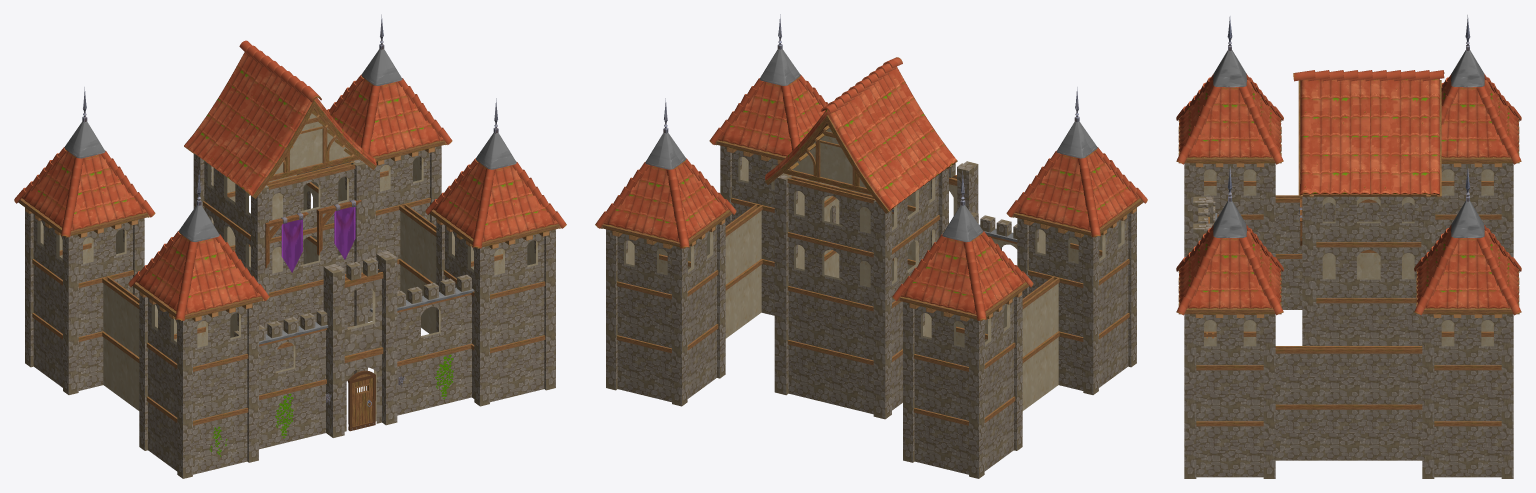
The model's file is castle.glb.
3 renders of one model, left to right at view 1: azimuth 30°, elevation 25°; view 2: azimuth 150°, elevation 25°; view 3: azimuth 270°, elevation 25°, orthographic. The views are drawn at different scales.
Visible parts, largest first — view 1: towerL_MI_UnevenBrick, towerR_MI_UnevenBrick, backL_MI_UnevenBrick, keep_MI_UnevenBrick, keep_MI_RoundTiles, gate_MI_UnevenBrick, wallR_MI_UnevenBrick, wallL_MI_UnevenBrick, towerR_MI_RoundTiles, backL_MI_RoundTiles, towerL_MI_RoundTiles, back_MI_Plaster (+21 smaller); view 2: keep_MI_UnevenBrick, backL_MI_UnevenBrick, backR_MI_UnevenBrick, towerL_MI_UnevenBrick, keep_MI_RoundTiles, back_MI_Plaster, backR_MI_RoundTiles, towerL_MI_RoundTiles, backL_MI_RoundTiles, towerR_MI_RoundTiles, keep_MI_WoodTrim, keep_MI_Plaster (+15 smaller); view 3: back_MI_UnevenBrick, keep_MI_RoundTiles, keep_MI_UnevenBrick, towerR_MI_UnevenBrick, backR_MI_UnevenBrick, towerL_MI_RoundTiles, towerR_MI_RoundTiles, backR_MI_RoundTiles, backL_MI_RoundTiles, towerL_MI_UnevenBrick, backL_MI_UnevenBrick, back_MI_WoodTrim (+15 smaller).
Part boxes in pixels (x1=…): towerL_MI_UnevenBrick: x1=139, y1=291, x2=258, y2=478; towerR_MI_UnevenBrick: x1=436, y1=219, x2=555, y2=406; backL_MI_UnevenBrick: x1=25, y1=208, x2=144, y2=394; keep_MI_UnevenBrick: x1=193, y1=154, x2=367, y2=381; keep_MI_RoundTiles: x1=184, y1=40, x2=376, y2=196; gate_MI_UnevenBrick: x1=323, y1=251, x2=397, y2=437; wallR_MI_UnevenBrick: x1=397, y1=274, x2=471, y2=415; wallL_MI_UnevenBrick: x1=234, y1=309, x2=327, y2=449; towerR_MI_RoundTiles: x1=425, y1=158, x2=566, y2=248; backL_MI_RoundTiles: x1=14, y1=147, x2=155, y2=237; towerL_MI_RoundTiles: x1=128, y1=231, x2=269, y2=320; back_MI_Plaster: x1=103, y1=211, x2=436, y2=410; keep_MI_UnevenBrick: x1=774, y1=168, x2=948, y2=419; backL_MI_UnevenBrick: x1=903, y1=291, x2=1022, y2=478; backR_MI_UnevenBrick: x1=606, y1=219, x2=725, y2=406; towerL_MI_UnevenBrick: x1=1017, y1=208, x2=1136, y2=394; keep_MI_RoundTiles: x1=765, y1=57, x2=957, y2=210; back_MI_Plaster: x1=725, y1=211, x2=1058, y2=410; backR_MI_RoundTiles: x1=595, y1=158, x2=736, y2=248; towerL_MI_RoundTiles: x1=1006, y1=147, x2=1147, y2=237; backL_MI_RoundTiles: x1=892, y1=231, x2=1033, y2=320; towerR_MI_RoundTiles: x1=709, y1=74, x2=828, y2=156; keep_MI_WoodTrim: x1=765, y1=115, x2=957, y2=365; keep_MI_Plaster: x1=792, y1=128, x2=935, y2=287; back_MI_UnevenBrick: x1=1275, y1=202, x2=1422, y2=460; keep_MI_RoundTiles: x1=1293, y1=70, x2=1444, y2=195; keep_MI_UnevenBrick: x1=1302, y1=196, x2=1435, y2=345; towerR_MI_UnevenBrick: x1=1184, y1=314, x2=1275, y2=478; backR_MI_UnevenBrick: x1=1422, y1=314, x2=1513, y2=478; towerL_MI_RoundTiles: x1=1176, y1=73, x2=1283, y2=164; towerR_MI_RoundTiles: x1=1176, y1=224, x2=1283, y2=315; backR_MI_RoundTiles: x1=1414, y1=225, x2=1521, y2=315; backL_MI_RoundTiles: x1=1441, y1=74, x2=1521, y2=164; towerL_MI_UnevenBrick: x1=1184, y1=163, x2=1275, y2=257; backL_MI_UnevenBrick: x1=1435, y1=163, x2=1513, y2=257; back_MI_WoodTrim: x1=1275, y1=195, x2=1422, y2=409.
Bounding box in the file's own units: 23.65 × 17.47 × 17.43.
Materials: 11 (11 with a texture image).
